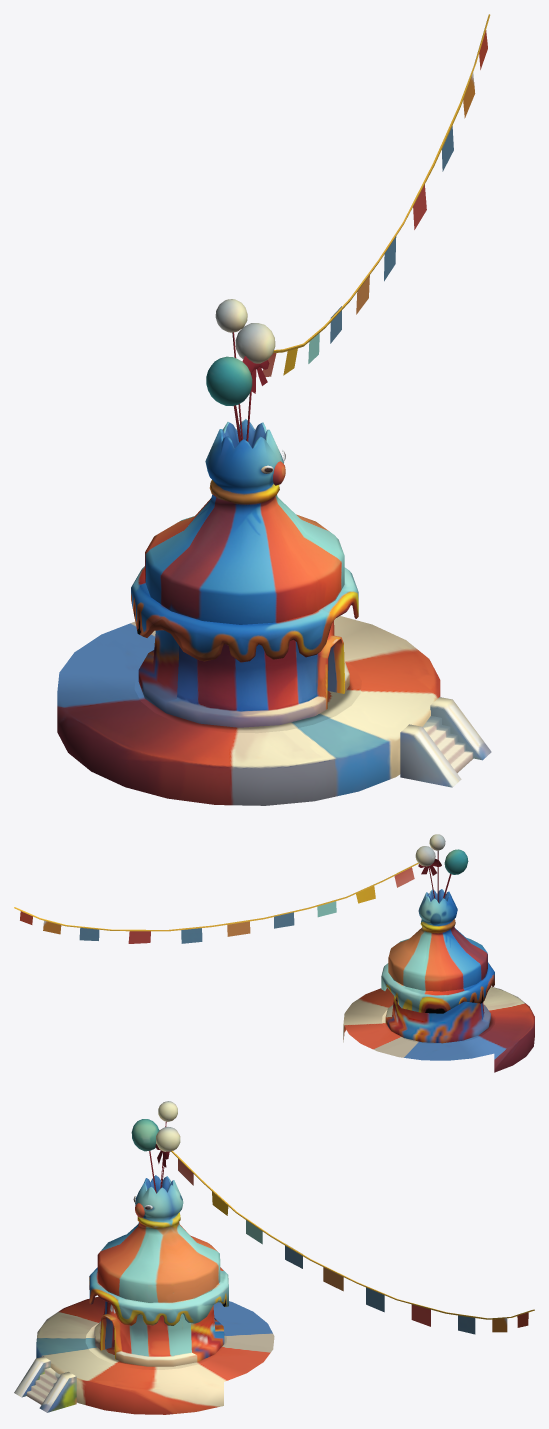
File: stage_carnival_1.fbx
The picture shows the model from 3 angles, top to bottom: view 1: azimuth 30°, elevation 25°; view 2: azimuth 150°, elevation 25°; view 3: azimuth 270°, elevation 25°; orthographic projection. The views are drawn at different scales.
Parts seen in each view (by area): view 1: 1, 3, 2; view 2: 3, 1, 2; view 3: 1, 3, 2.
Boxes of the visible parts, x1,y1,x2,y2 form: 1: [57, 616, 491, 805]; 3: [145, 14, 490, 624]; 2: [131, 566, 361, 733]; 3: [14, 834, 487, 991]; 1: [343, 986, 534, 1072]; 2: [381, 962, 495, 1043]; 1: [14, 1296, 274, 1414]; 3: [97, 1101, 534, 1334]; 2: [85, 1267, 228, 1369].
Bounding box in the file's own units: 541 × 306 × 552.
